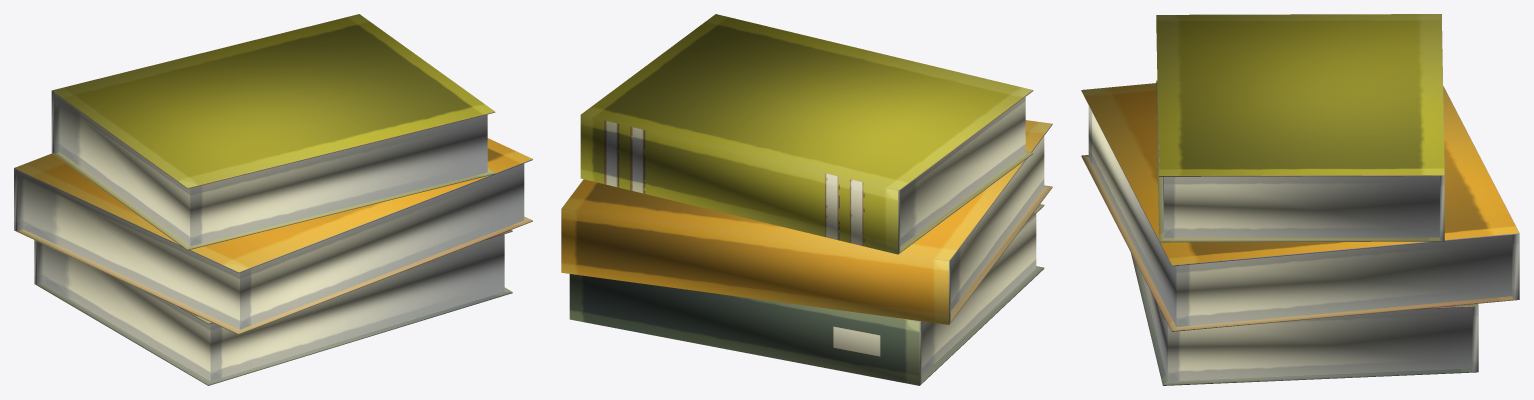
The model's file is Book Stack 1.fbx.
3 renders of one model, left to right at view 1: azimuth 30°, elevation 25°; view 2: azimuth 150°, elevation 25°; view 3: azimuth 270°, elevation 25°, orthographic. The views are drawn at different scales.
Visible parts, largest first — view 1: Book Stack 1; view 2: Book Stack 1; view 3: Book Stack 1.
Part boxes in pixels (x1,y1,x2,y2): Book Stack 1: [14, 14, 532, 385]; Book Stack 1: [561, 14, 1052, 385]; Book Stack 1: [1081, 14, 1519, 385].
Bounding box in the file's own units: 24.28 × 10.92 × 21.68.
